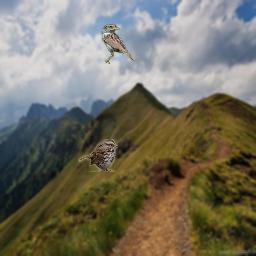Sparrow: (101, 24, 136, 64), (78, 139, 118, 172)
